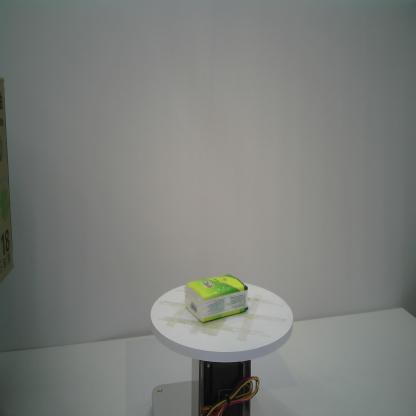Tissue: (184, 274, 249, 322)
